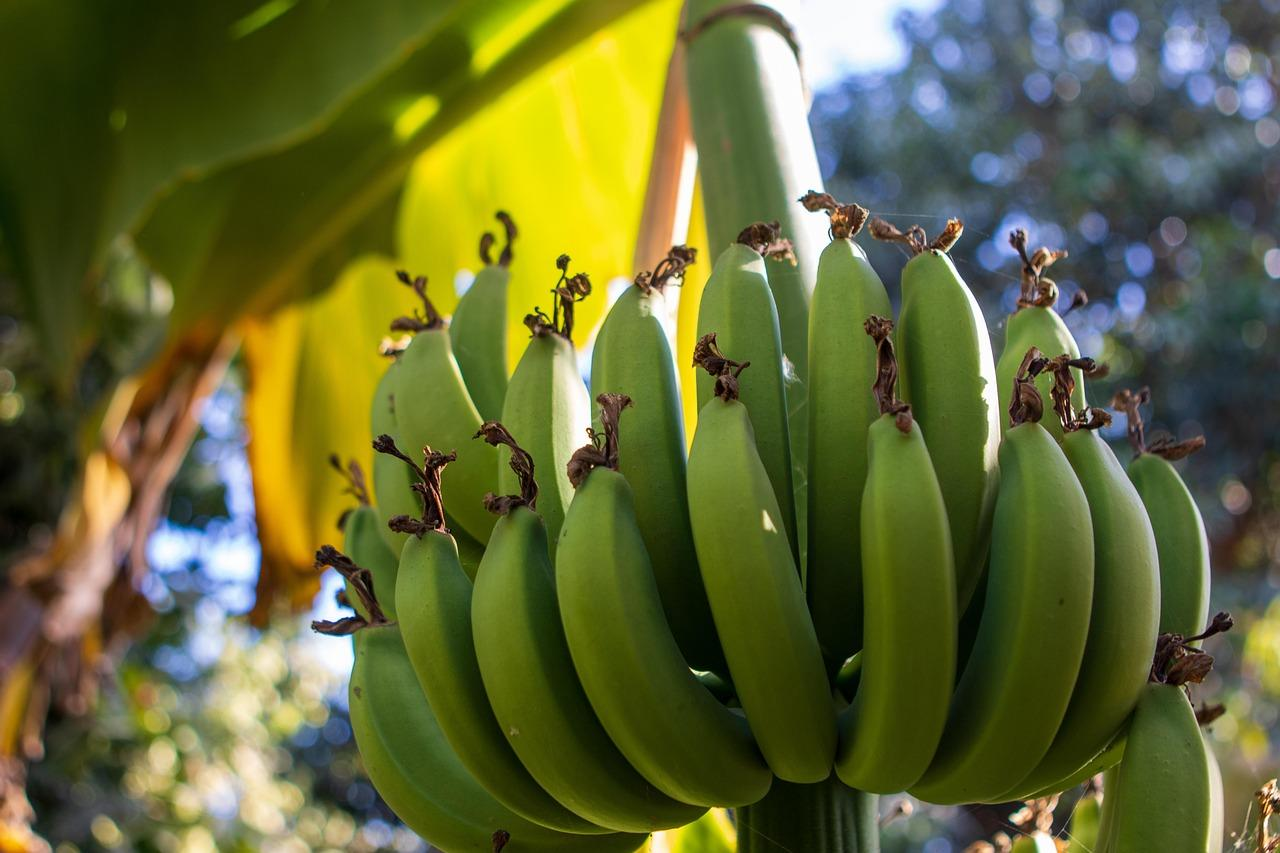banana: (283, 191, 1254, 846)
